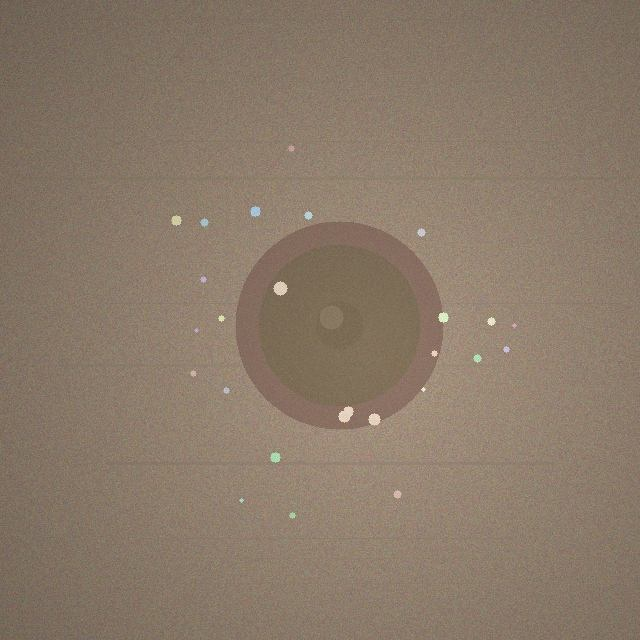overburn: (235, 221, 443, 429)
